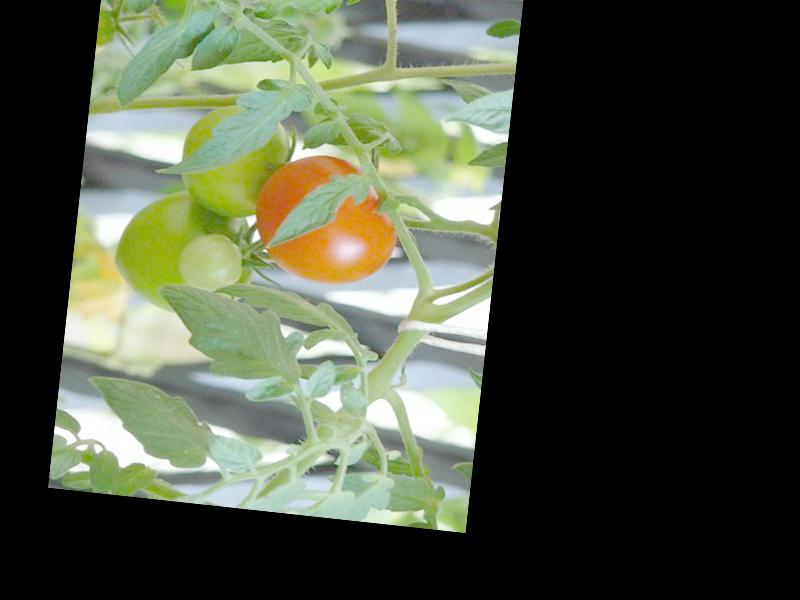Tomato: (250, 149, 404, 291)
